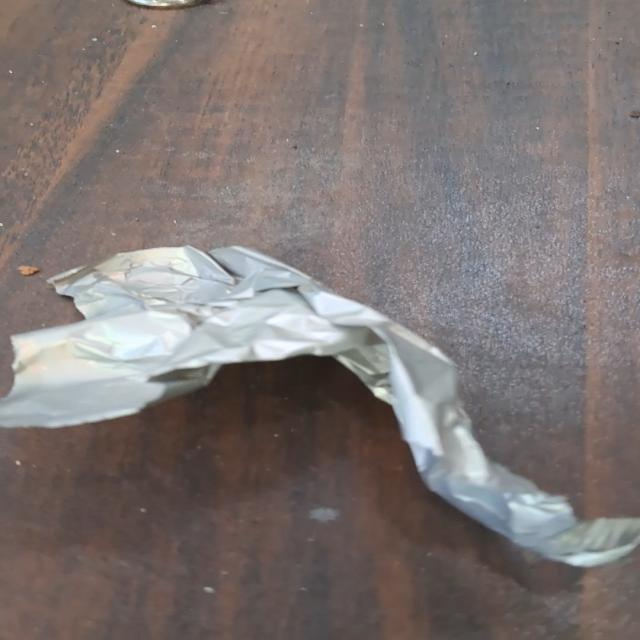Anorganik: (3, 237, 640, 578)
